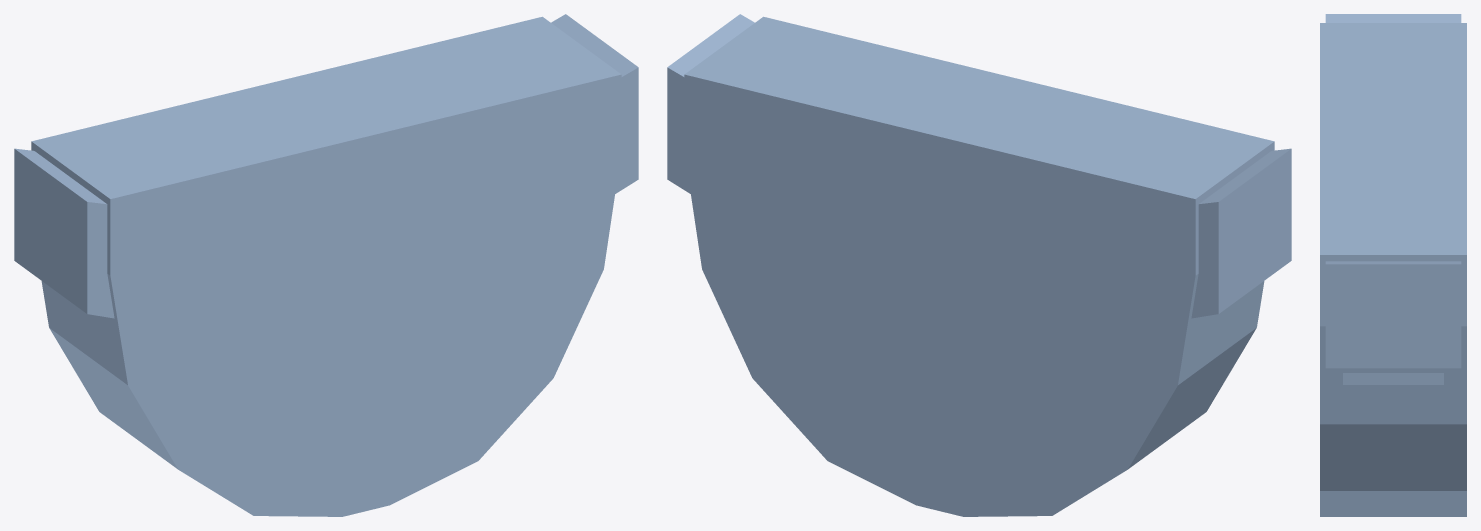
Rendered from bocas.glb.
The picture shows the model from 3 angles, left to right: view 1: azimuth 30°, elevation 25°; view 2: azimuth 150°, elevation 25°; view 3: azimuth 270°, elevation 25°; orthographic projection. The views are drawn at different scales.
Visible parts, largest first — view 1: abierta, feliz, pensando, sorpresa, triste; view 2: abierta, feliz, pensando, triste; view 3: abierta, feliz, pensando, triste, sorpresa.
Part boxes in pixels (<box>): abierta: <box>31,16,621,516</box>; feliz: <box>14,14,638,318</box>; pensando: <box>66,68,435,187</box>; sorpresa: <box>293,82,374,133</box>; triste: <box>245,74,401,145</box>; abierta: <box>684,16,1274,516</box>; feliz: <box>667,14,1291,318</box>; pensando: <box>870,68,1235,187</box>; triste: <box>905,89,1021,145</box>; abierta: <box>1320,23,1466,516</box>; feliz: <box>1325,14,1461,368</box>; pensando: <box>1343,27,1443,384</box>; triste: <box>1325,118,1461,156</box>; sorpresa: <box>1341,129,1445,148</box>.
Bounding box in the file's own units: 1 × 0.6486 × 0.2482.
